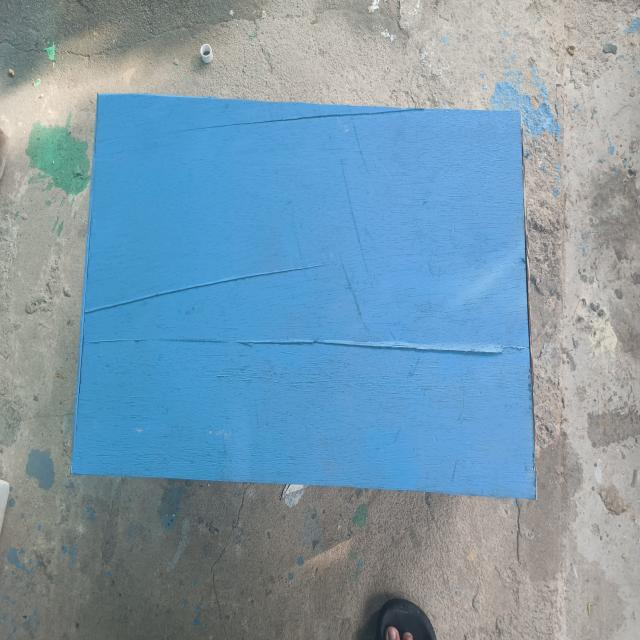blue_box: (76, 88, 542, 506)
